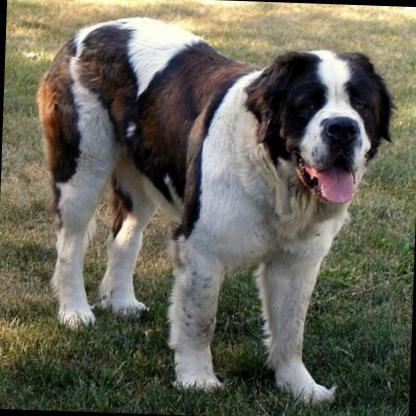Saint_Bernard: (26, 12, 400, 408)
